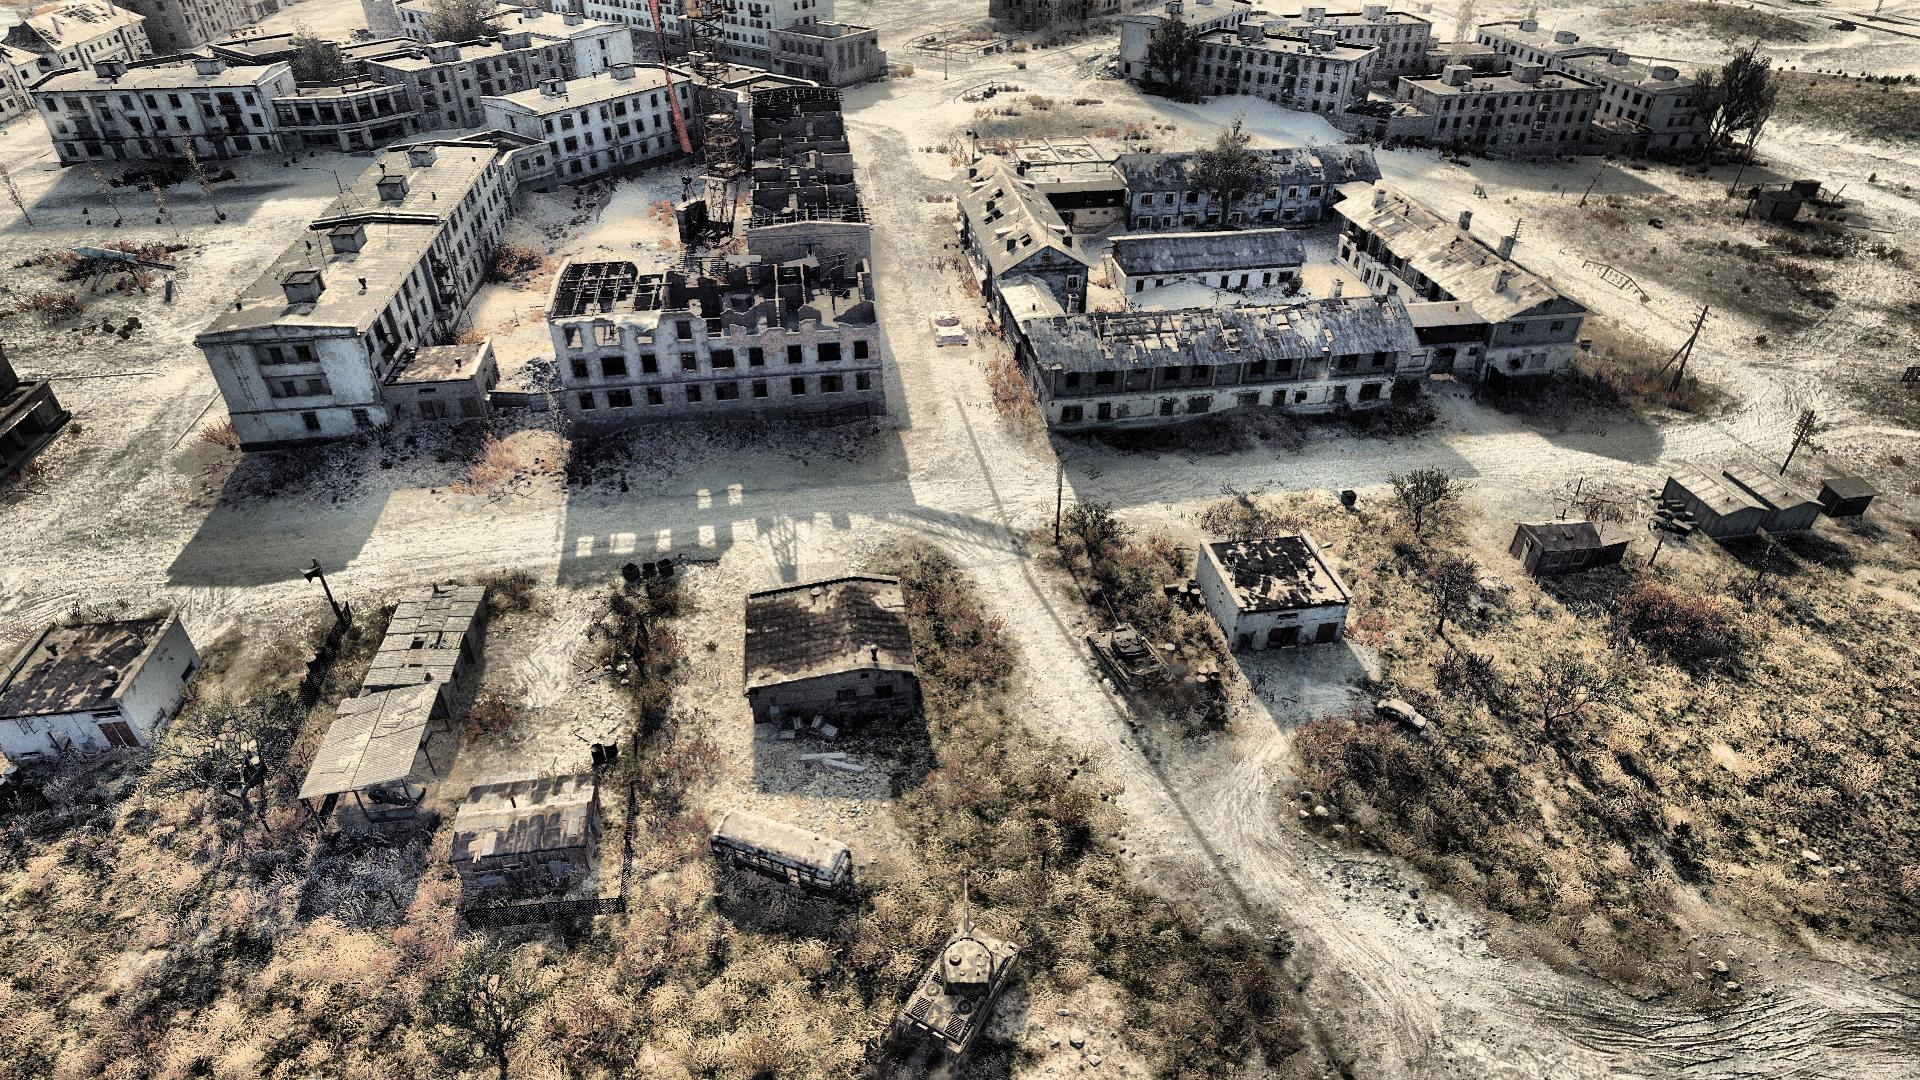military-vehicle: (895, 868, 1018, 1055), (1088, 592, 1167, 695), (924, 297, 968, 347)
